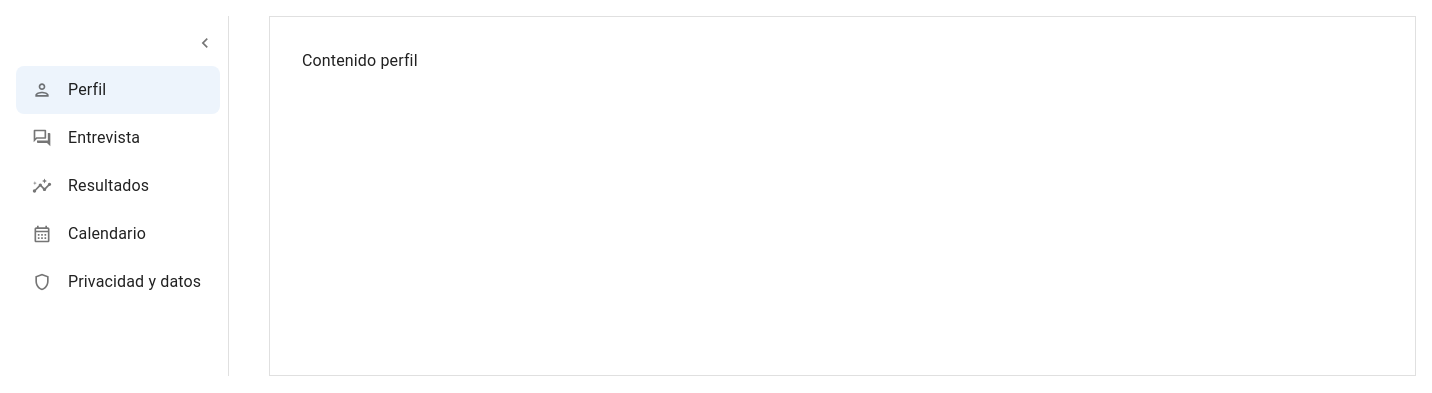
Test: AccountPage › menú plegable en escritorio (UX-06) › se puede plegar a solo iconos: cada sección conserva su nombre accesible
Click the button named "Plegar menú" at [205, 43], box [190,28,220,58]
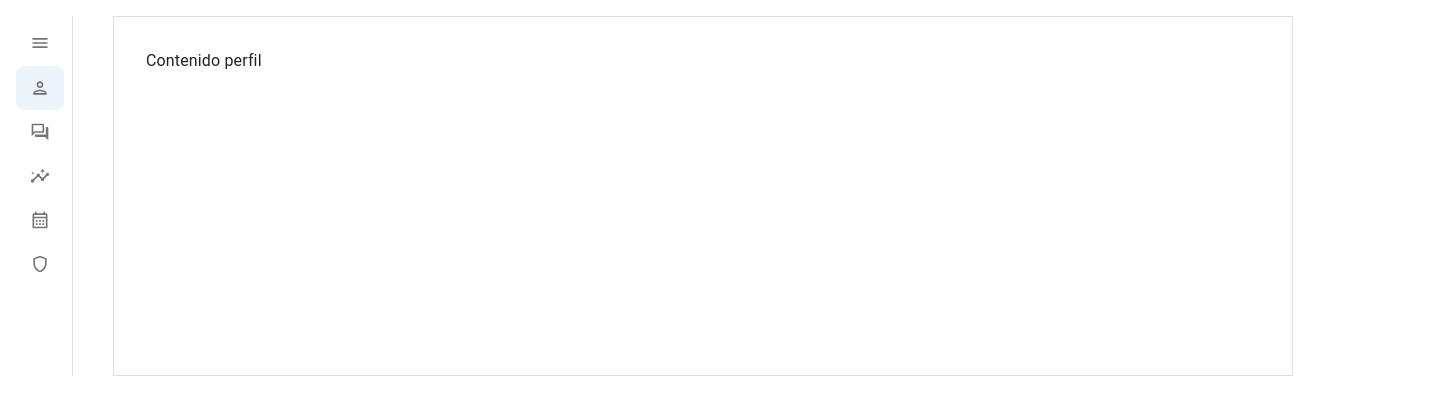
Expected: the link named "Entrevista" is shown, [30,122,50,142]
Expected: the button named "Desplegar menú" is collapsed, [25,28,55,58]
Expected: the link "Entrevista" is gone
